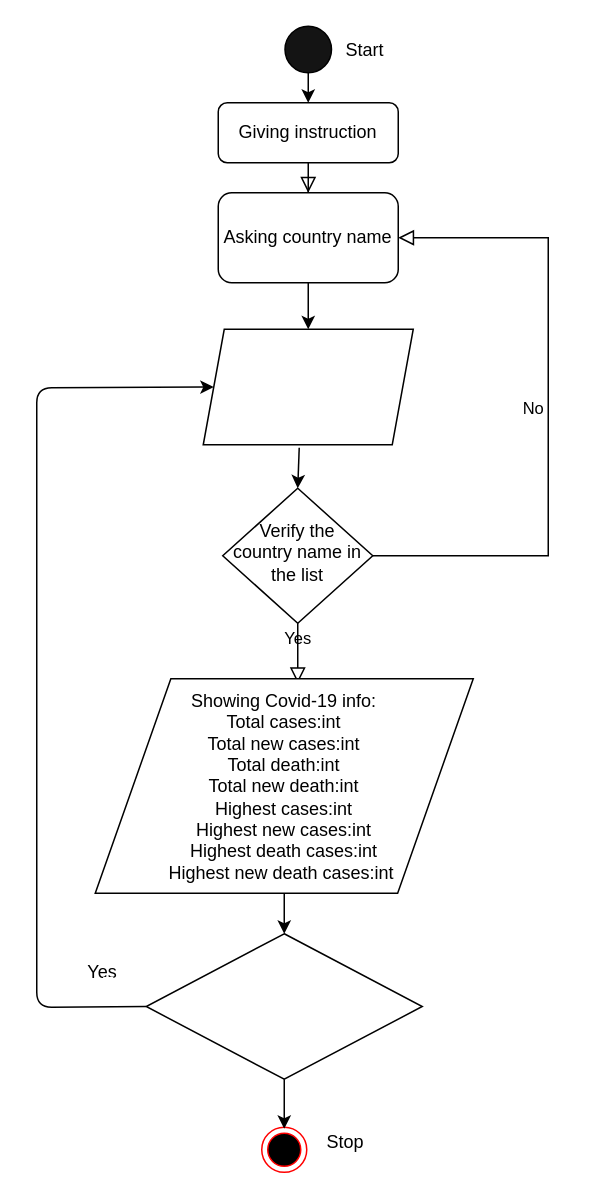
The diagram is 590 pixels wide and 1199 high, and some of its shapes have lost their labels. The shapes that lost their labels are listed below. From the top down, each one's centre as x and y in pixels, then its label:
At point 307,386: "Sending country name".
At point 283,1005: "Searching other country info".
